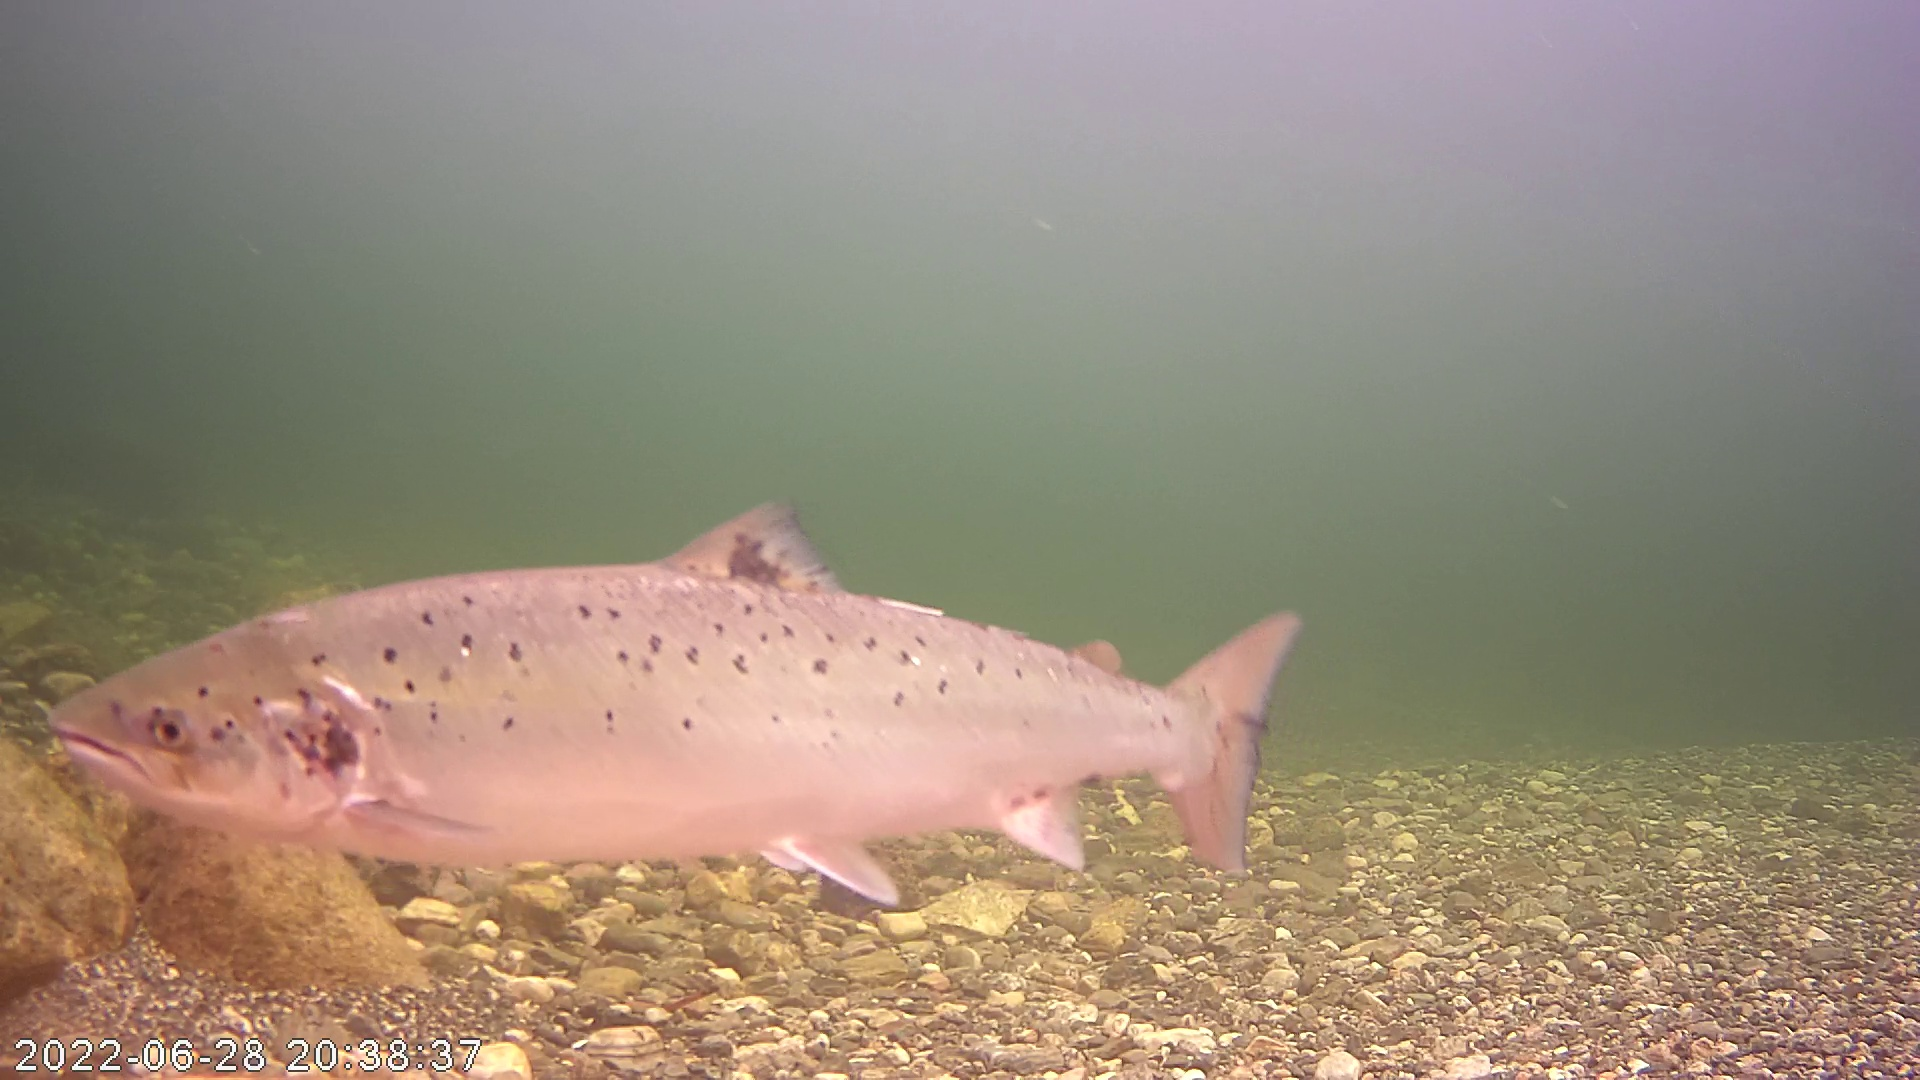salmon: (269, 469, 1300, 927)
